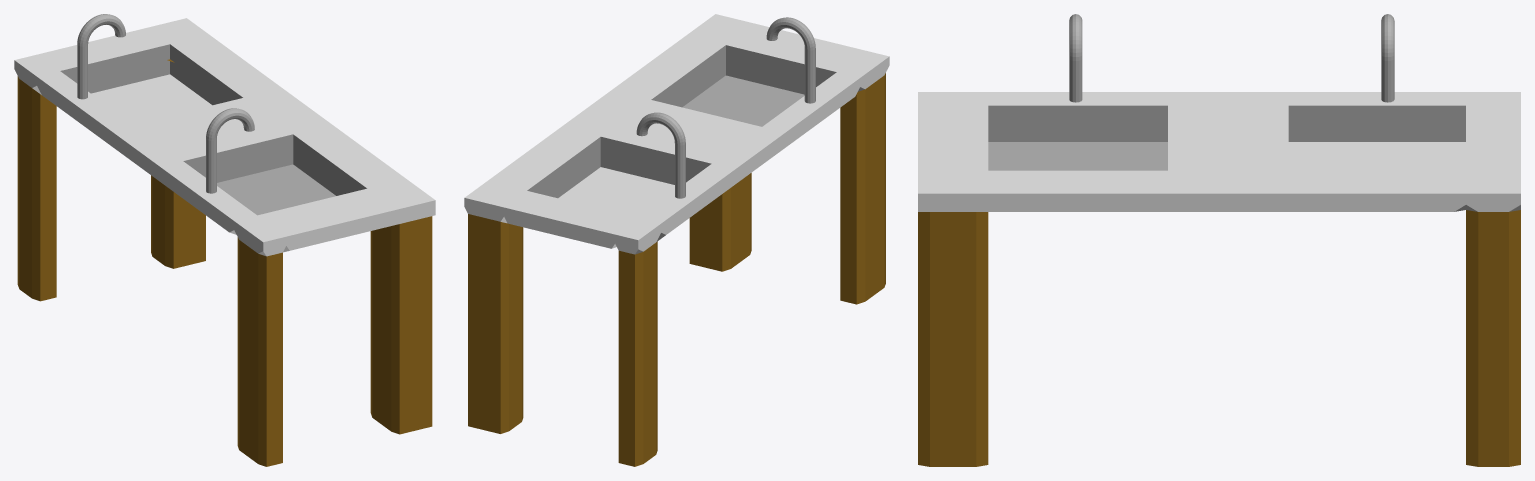
Rendered from prop-bathroomA.fbx.
3 views of the same model, side by side, from view 1: azimuth 30°, elevation 25°; view 2: azimuth 150°, elevation 25°; view 3: azimuth 270°, elevation 25° (orthographic). The views are drawn at different scales.
Parts seen in each view (by area): view 1: Torus.001; view 2: Torus.001; view 3: Torus.001.
Boxes of the visible parts, box(x1,y1,x2,y2) form: Torus.001: box(14, 14, 435, 466); Torus.001: box(464, 14, 889, 466); Torus.001: box(918, 14, 1520, 466).
Bounding box in the file's own units: 60 × 101 × 150.
